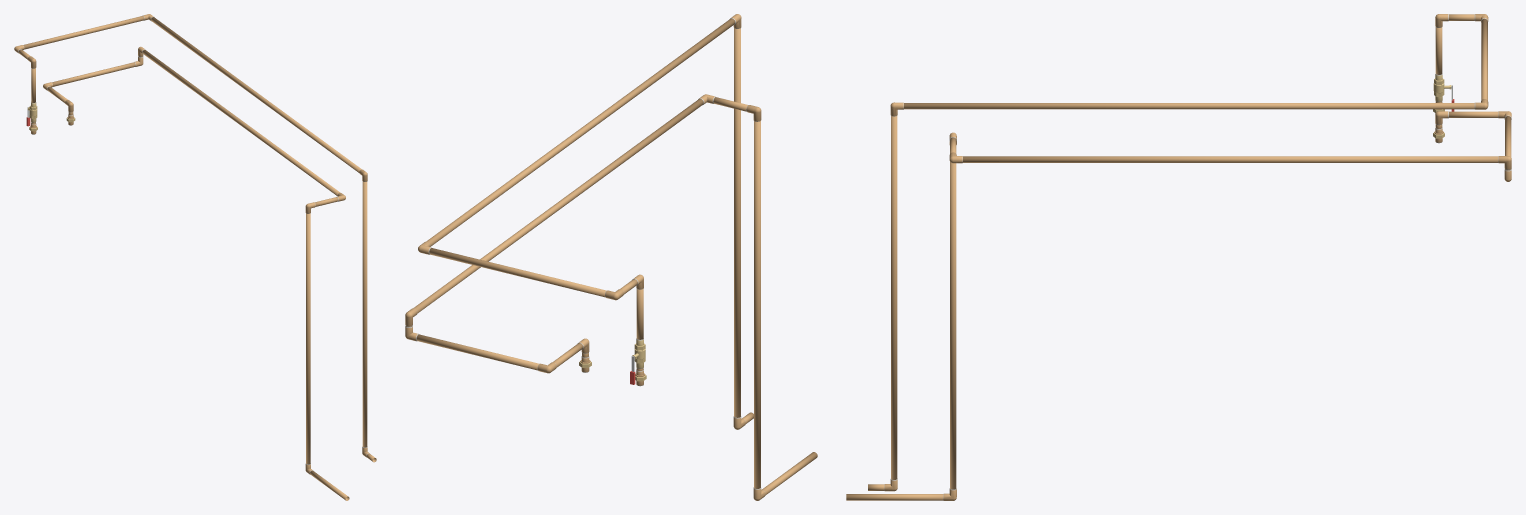
Rendered from slab_pipes_supply__water_heater-closet_gas_tank+closet_electric_tank_and_plumbing-copper.glb.
3 renders of one model, left to right at view 1: azimuth 30°, elevation 25°; view 2: azimuth 150°, elevation 25°; view 3: azimuth 270°, elevation 25°, orthographic. The views are drawn at different scales.
Parts seen in each view (by area): view 1: pipe_supply_cold_wh_closet__copper, pipe_supply_hot_wh_closet__copper; view 2: pipe_supply_cold_wh_closet__copper, pipe_supply_hot_wh_closet__copper; view 3: pipe_supply_cold_wh_closet__copper, pipe_supply_hot_wh_closet__copper.
Boxes of the visible parts, x1=… form: pipe_supply_cold_wh_closet__copper: x1=18, y1=16, x2=376, y2=462; pipe_supply_hot_wh_closet__copper: x1=47, y1=50, x2=349, y2=500; pipe_supply_cold_wh_closet__copper: x1=426, y1=18, x2=753, y2=423; pipe_supply_hot_wh_closet__copper: x1=406, y1=97, x2=817, y2=494; pipe_supply_cold_wh_closet__copper: x1=868, y1=14, x2=1487, y2=490; pipe_supply_hot_wh_closet__copper: x1=846, y1=111, x2=1511, y2=500.
Bounding box in the file's own units: 0.7395 × 1.57 × 2.25.
